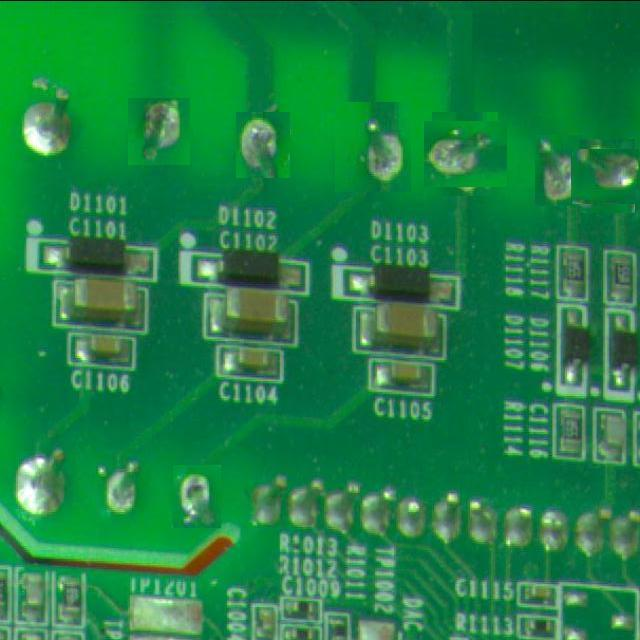lack_of_part: (335, 102, 411, 192), (428, 116, 502, 192), (575, 144, 640, 209), (128, 98, 190, 165), (536, 135, 590, 206), (237, 112, 290, 178), (172, 464, 221, 528)
